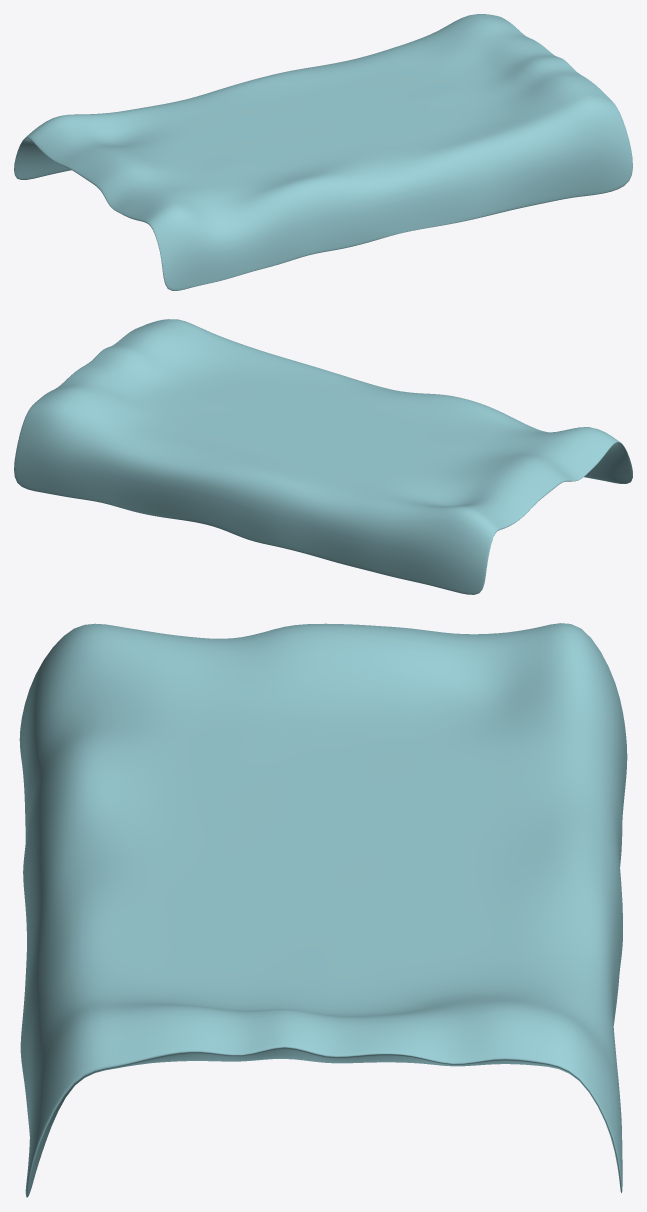
Rendered from HS_I_Bedcover2_Model_V1.FBX.
3 views of the same model, one above another, from view 1: azimuth 30°, elevation 25°; view 2: azimuth 150°, elevation 25°; view 3: azimuth 270°, elevation 25° (orthographic). The views are drawn at different scales.
Visible parts, largest first — view 1: Plane011; view 2: Plane011; view 3: Plane011.
Part boxes in pixels (x1,y1,x2,y2): Plane011: [14, 14, 632, 290]; Plane011: [14, 319, 632, 594]; Plane011: [19, 623, 627, 1197].
Bounding box in the file's own units: 180 × 31.45 × 100.
